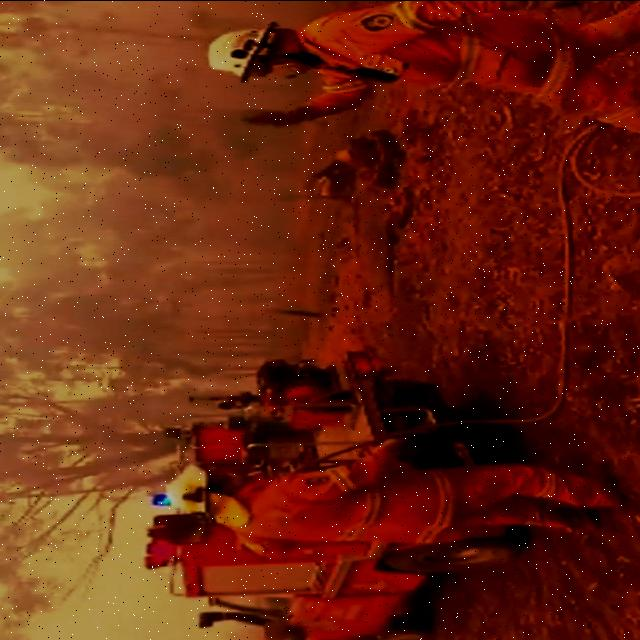asap: (1, 1, 316, 374)
